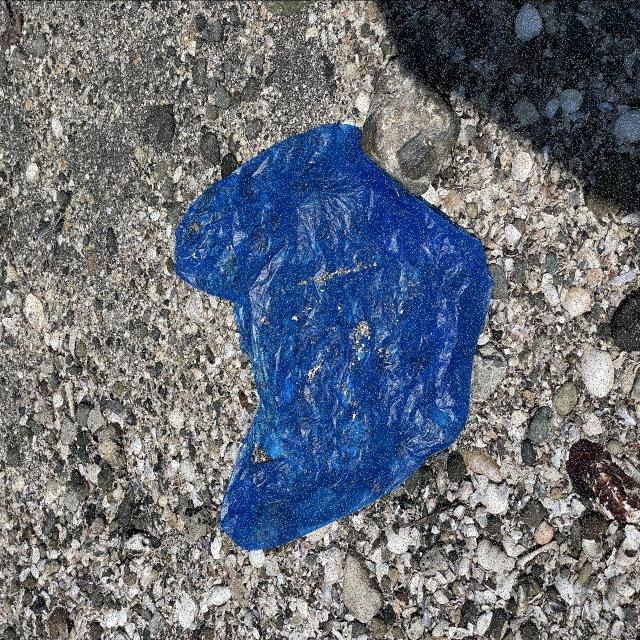plastic_waste: (175, 123, 492, 556)
